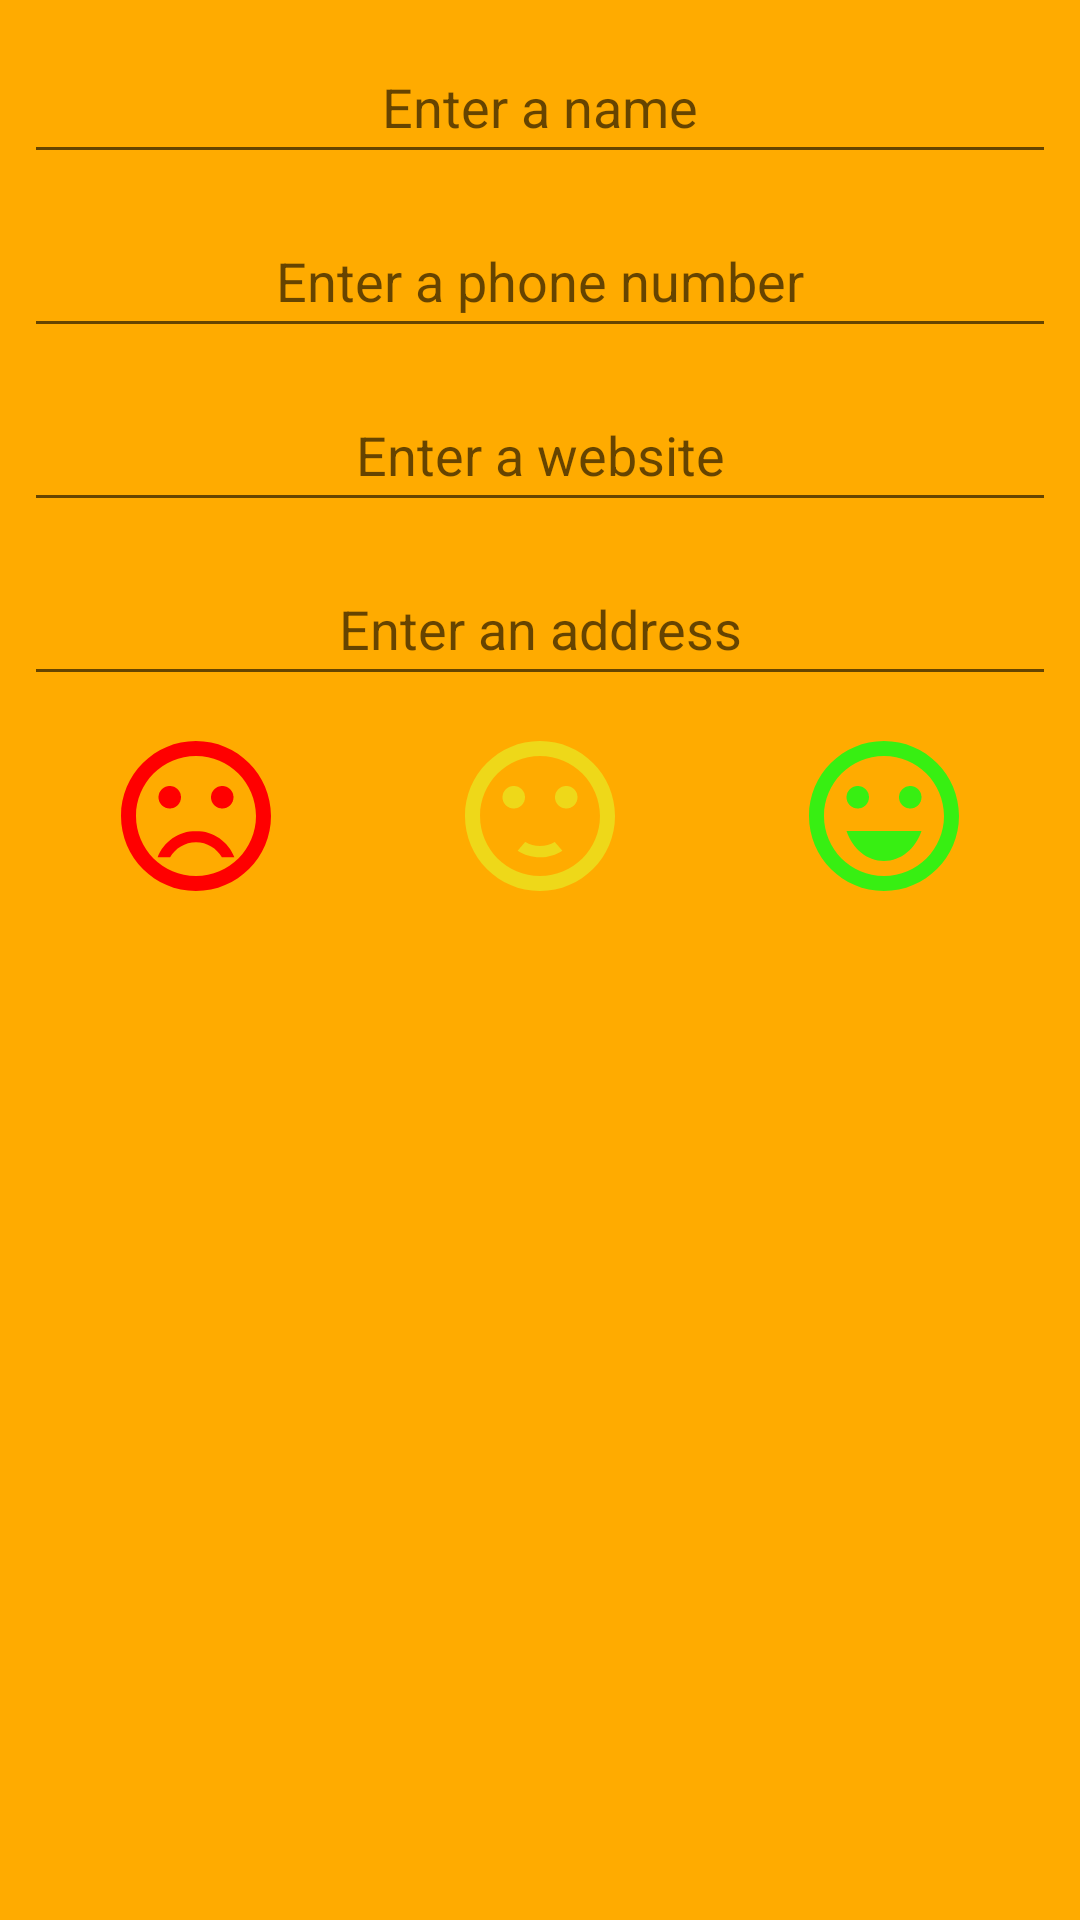

Locate icon controls on the screen. Image size 1080x1920, boxes as (left=x1, top=y1, right=x2, bottom=y2).
Happy face: (left=809, top=741, right=959, bottom=891)
Neutral face: (left=465, top=741, right=615, bottom=891)
sad face: (left=121, top=741, right=271, bottom=891)
